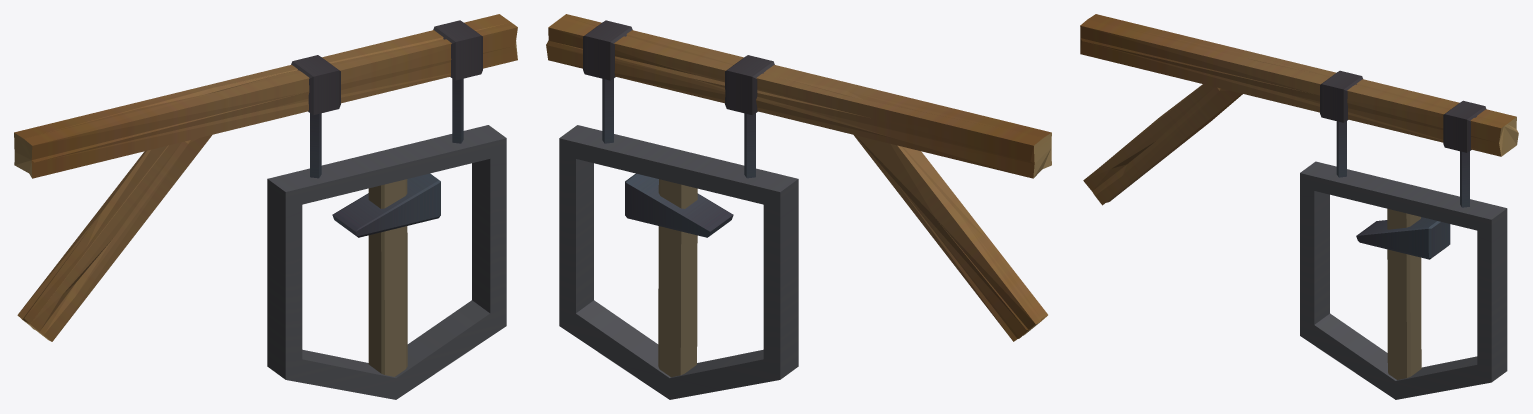
File: SignBoard_8.fbx
3 renders of one model, left to right at view 1: azimuth 30°, elevation 25°; view 2: azimuth 150°, elevation 25°; view 3: azimuth 330°, elevation 25°, orthographic. The views are drawn at different scales.
Parts seen in each view (by area): view 1: polySurface10663; view 2: polySurface10663; view 3: polySurface10663.
Part boxes in pixels (x1,y1,x2,y2): polySurface10663: (14,14,517,399); polySurface10663: (546,14,1051,399); polySurface10663: (1080,14,1518,399).
Bounding box in the file's own units: 309 × 209 × 26.66.
